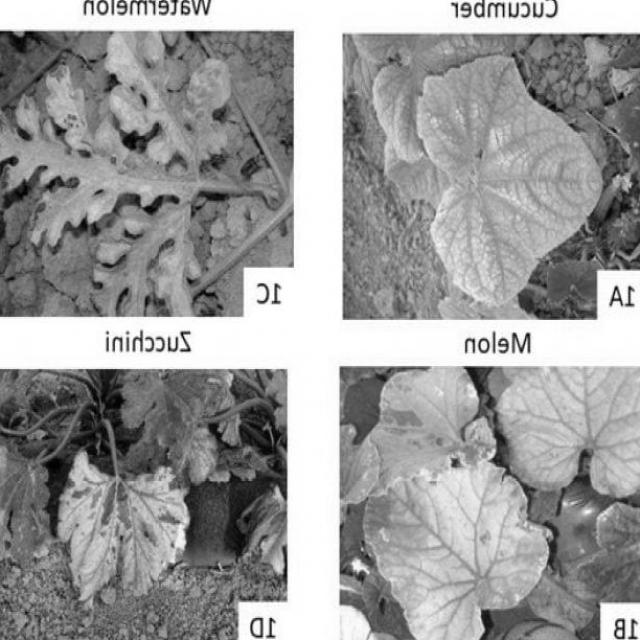Aphids: (0, 33, 181, 318), (414, 54, 608, 313), (376, 463, 553, 640), (492, 363, 640, 503), (59, 447, 186, 609), (353, 367, 492, 512), (522, 558, 595, 640), (234, 489, 282, 588), (163, 420, 219, 485)
